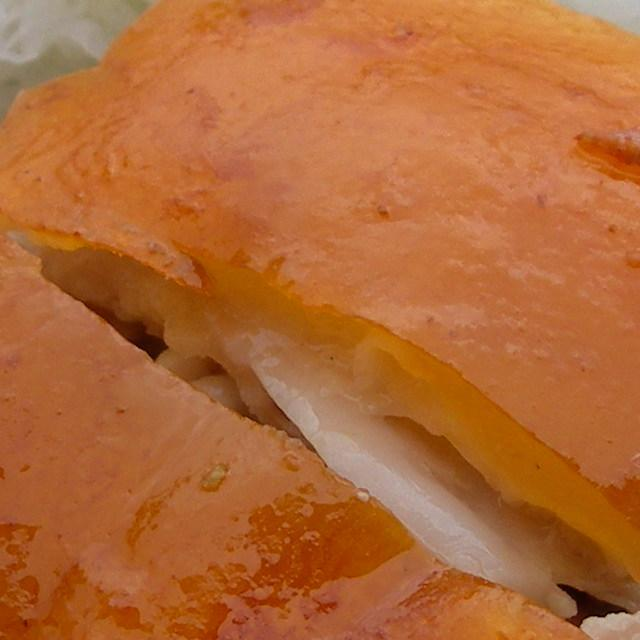banh hoi heo quay: (0, 0, 640, 640)
thit heo quay: (0, 0, 640, 640), (0, 138, 640, 640)
